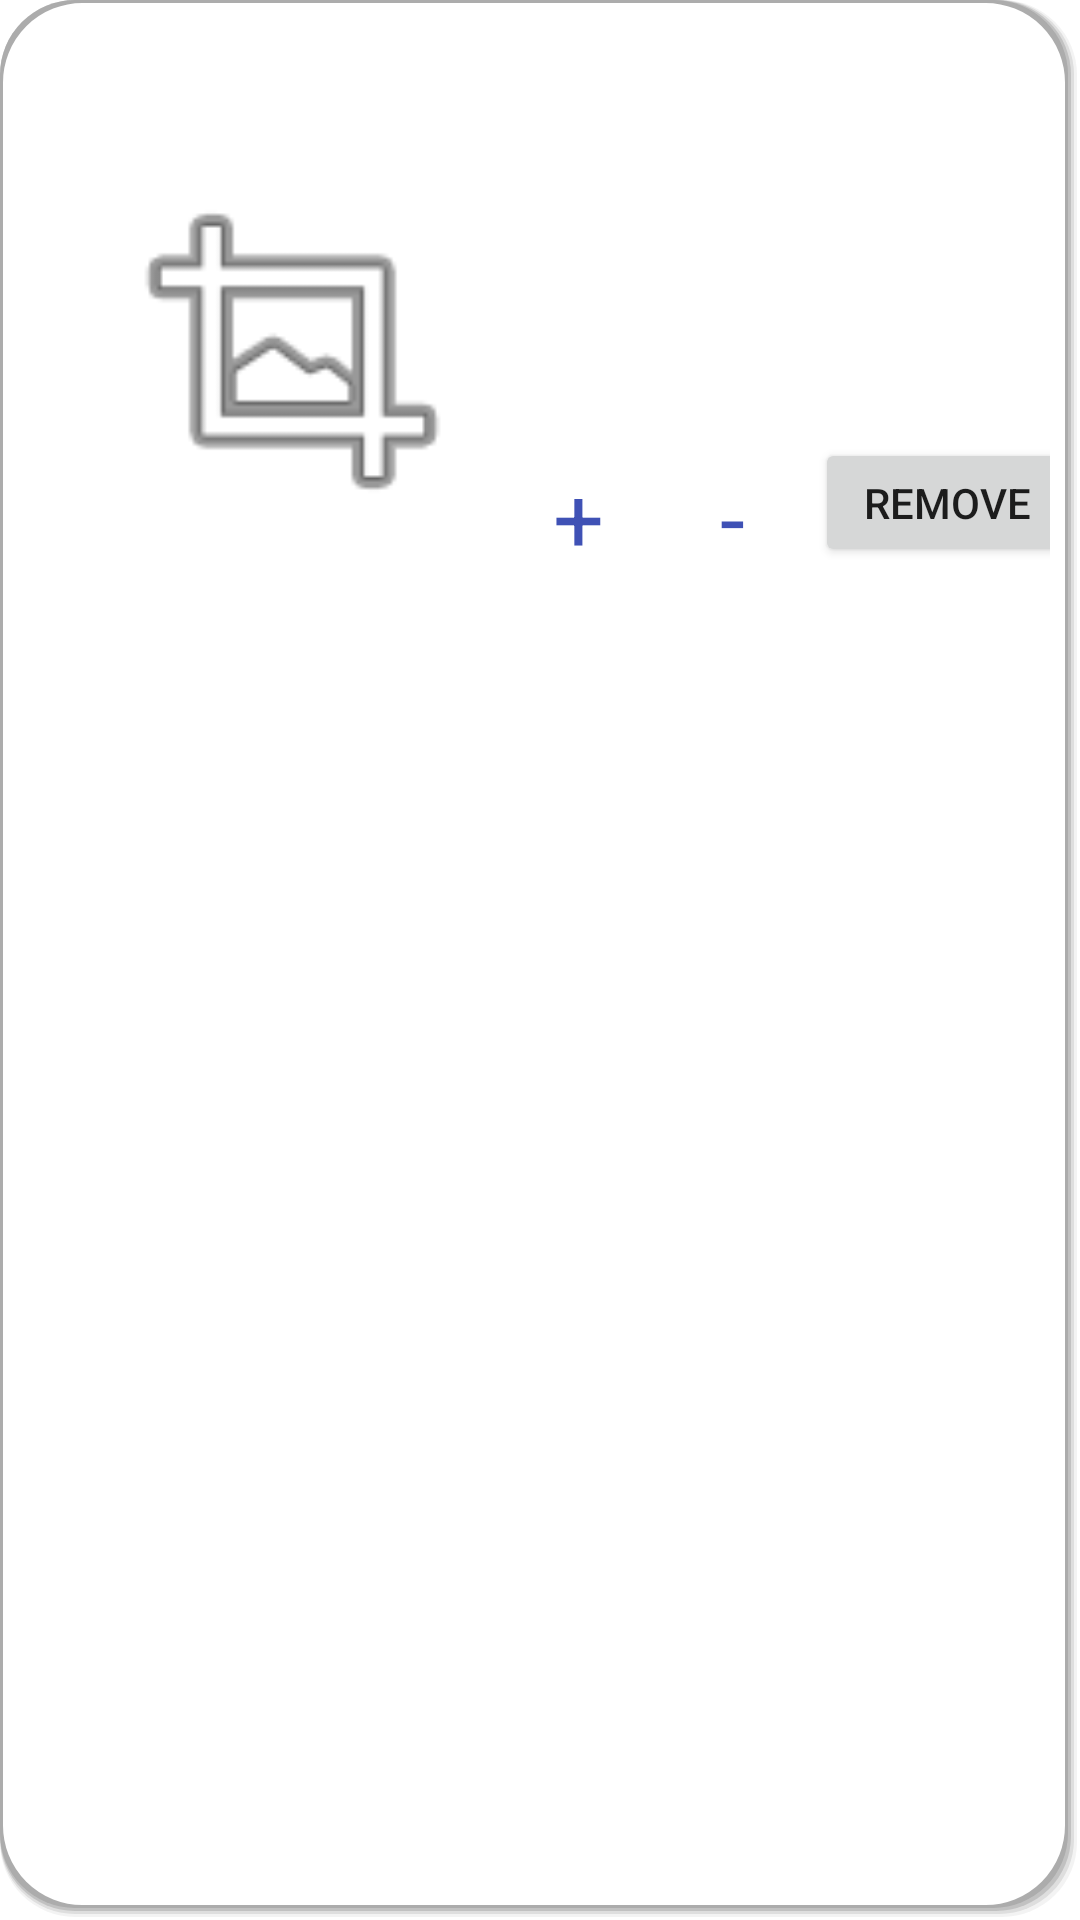

Icons on this 1080 × 1920 Android screen, each with its box as [left=x1, top=y1, right=x2, bottom=y2]:
crop: [left=147, top=213, right=438, bottom=490]
